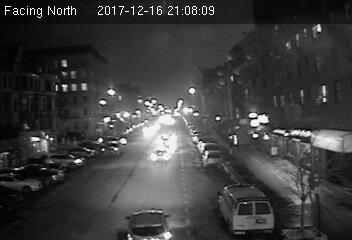car: (124, 207, 174, 240), (150, 148, 172, 163), (203, 150, 222, 165)
police: (216, 180, 276, 232)
